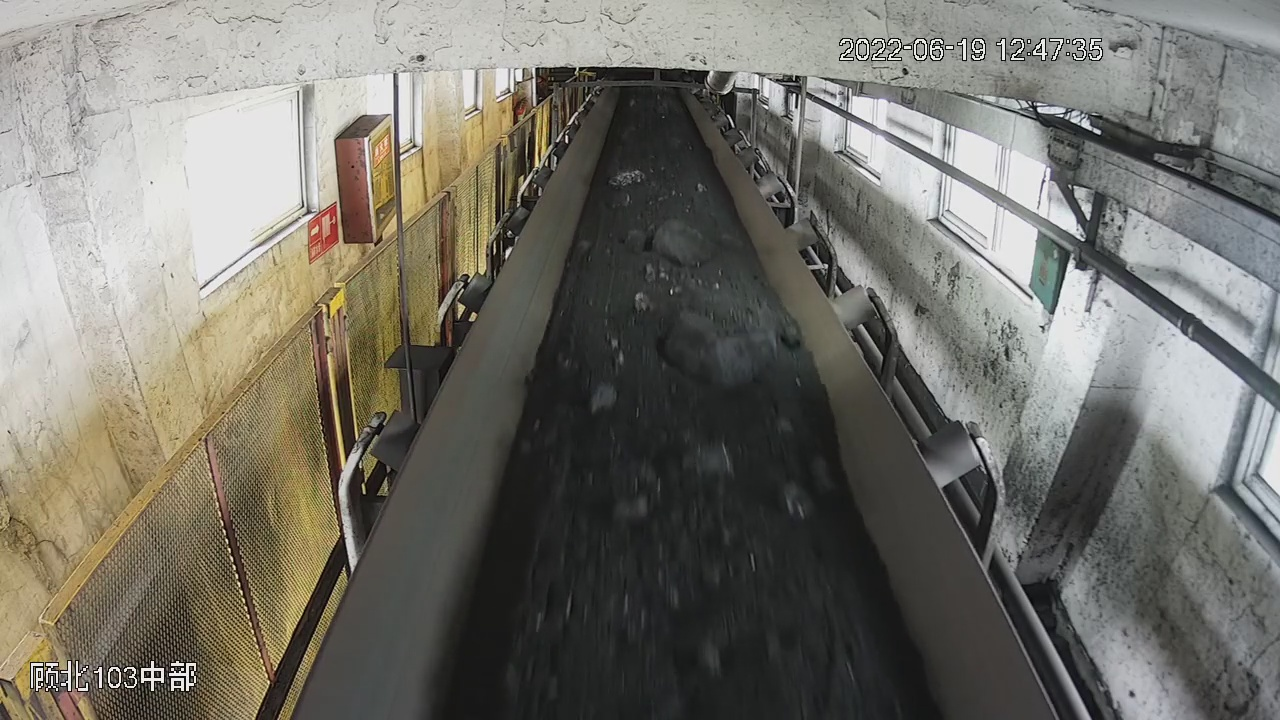gangue: (665, 288, 775, 386), (653, 220, 710, 271), (683, 444, 735, 477), (785, 477, 813, 516), (588, 371, 616, 408), (611, 168, 649, 189), (636, 288, 657, 316), (626, 227, 646, 250)
